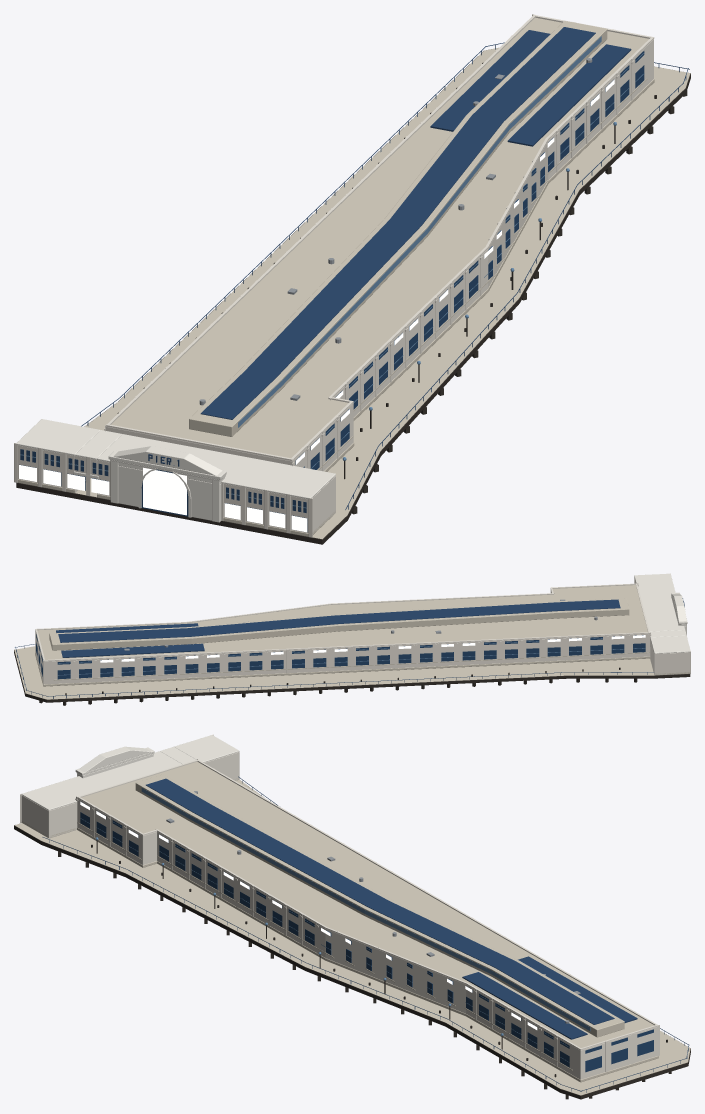
Rendered from pier-1.glb.
3 renders of one model, top to bottom at view 1: azimuth 30°, elevation 25°; view 2: azimuth 150°, elevation 25°; view 3: azimuth 270°, elevation 25°, orthographic. The views are drawn at different scales.
Parts seen in each view (by area): view 1: shed, deck, solar_spine, monitor, shed_cope, bulkhead_se_cope, solar_outer_se, bulkhead_se, solar_outer_nw, mon_glass, bulkhead_nw_cope, pavilion (+4 smaller); view 2: shed, deck, monitor, solar_spine, shed_cope, bulkhead_se_cope, shed_plinth, solar_outer_nw, bulkhead_nw, bulkhead_nw_cope, solar_outer_se, rail_1 (+2 smaller); view 3: shed, deck, solar_spine, monitor, shed_cope, bulkhead_se_cope, mon_glass, shed_plinth, solar_outer_se, bulkhead_se, solar_outer_nw, bulkhead_nw_cope (+2 smaller).
Boxes of the visible parts, bbox=[...] form: shed: bbox=[106, 17, 653, 470]; deck: bbox=[16, 47, 690, 544]; solar_spine: bbox=[200, 27, 595, 419]; monitor: bbox=[189, 21, 607, 436]; shed_cope: bbox=[106, 15, 654, 460]; bulkhead_se_cope: bbox=[97, 434, 335, 499]; solar_outer_se: bbox=[507, 44, 631, 146]; bulkhead_se: bbox=[97, 460, 335, 534]; solar_outer_nw: bbox=[430, 30, 550, 131]; mon_glass: bbox=[238, 36, 601, 427]; bulkhead_nw_cope: bbox=[16, 419, 100, 455]; pavilion: bbox=[118, 465, 221, 521]; shed: bbox=[35, 585, 648, 684]; deck: bbox=[14, 646, 690, 702]; monitor: bbox=[49, 598, 629, 650]; solar_spine: bbox=[58, 599, 620, 642]; shed_cope: bbox=[35, 583, 649, 661]; bulkhead_se_cope: bbox=[634, 573, 684, 631]; shed_plinth: bbox=[35, 653, 650, 686]; solar_outer_nw: bbox=[61, 643, 204, 657]; bulkhead_nw: bbox=[650, 639, 690, 675]; bulkhead_nw_cope: bbox=[650, 636, 690, 653]; solar_outer_se: bbox=[56, 623, 198, 632]; rail_1: bbox=[48, 672, 566, 696]; shed: bbox=[78, 761, 657, 1079]; deck: bbox=[14, 779, 690, 1099]; solar_spine: bbox=[146, 778, 614, 1024]; monitor: bbox=[135, 774, 624, 1037]; shed_cope: bbox=[77, 759, 658, 1050]; bulkhead_se_cope: bbox=[21, 751, 181, 810]; mon_glass: bbox=[141, 788, 590, 1031]; shed_plinth: bbox=[77, 828, 658, 1082]; solar_outer_se: bbox=[462, 972, 587, 1039]; bulkhead_se: bbox=[21, 795, 76, 837]; solar_outer_nw: bbox=[518, 956, 637, 1022]; bulkhead_nw_cope: bbox=[174, 735, 239, 762].
Bounding box in the file's own units: 215 × 15.4 × 185.
